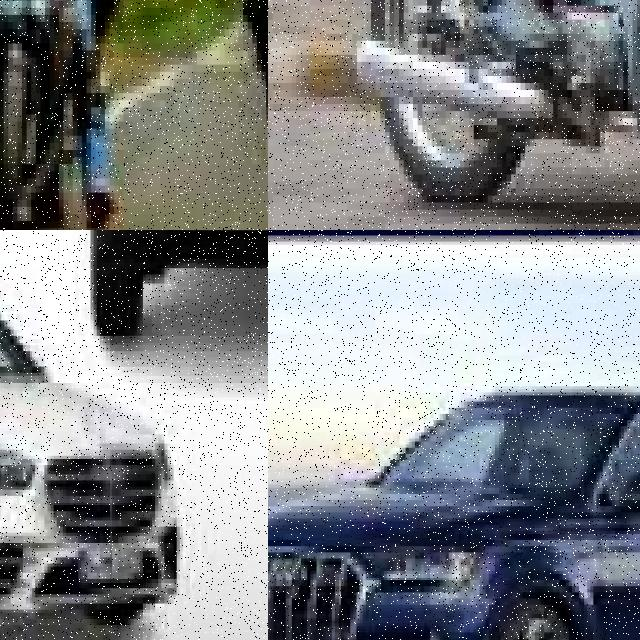bike: (347, 0, 640, 230), (0, 0, 104, 228)
car: (0, 230, 175, 640), (20, 230, 268, 351)
